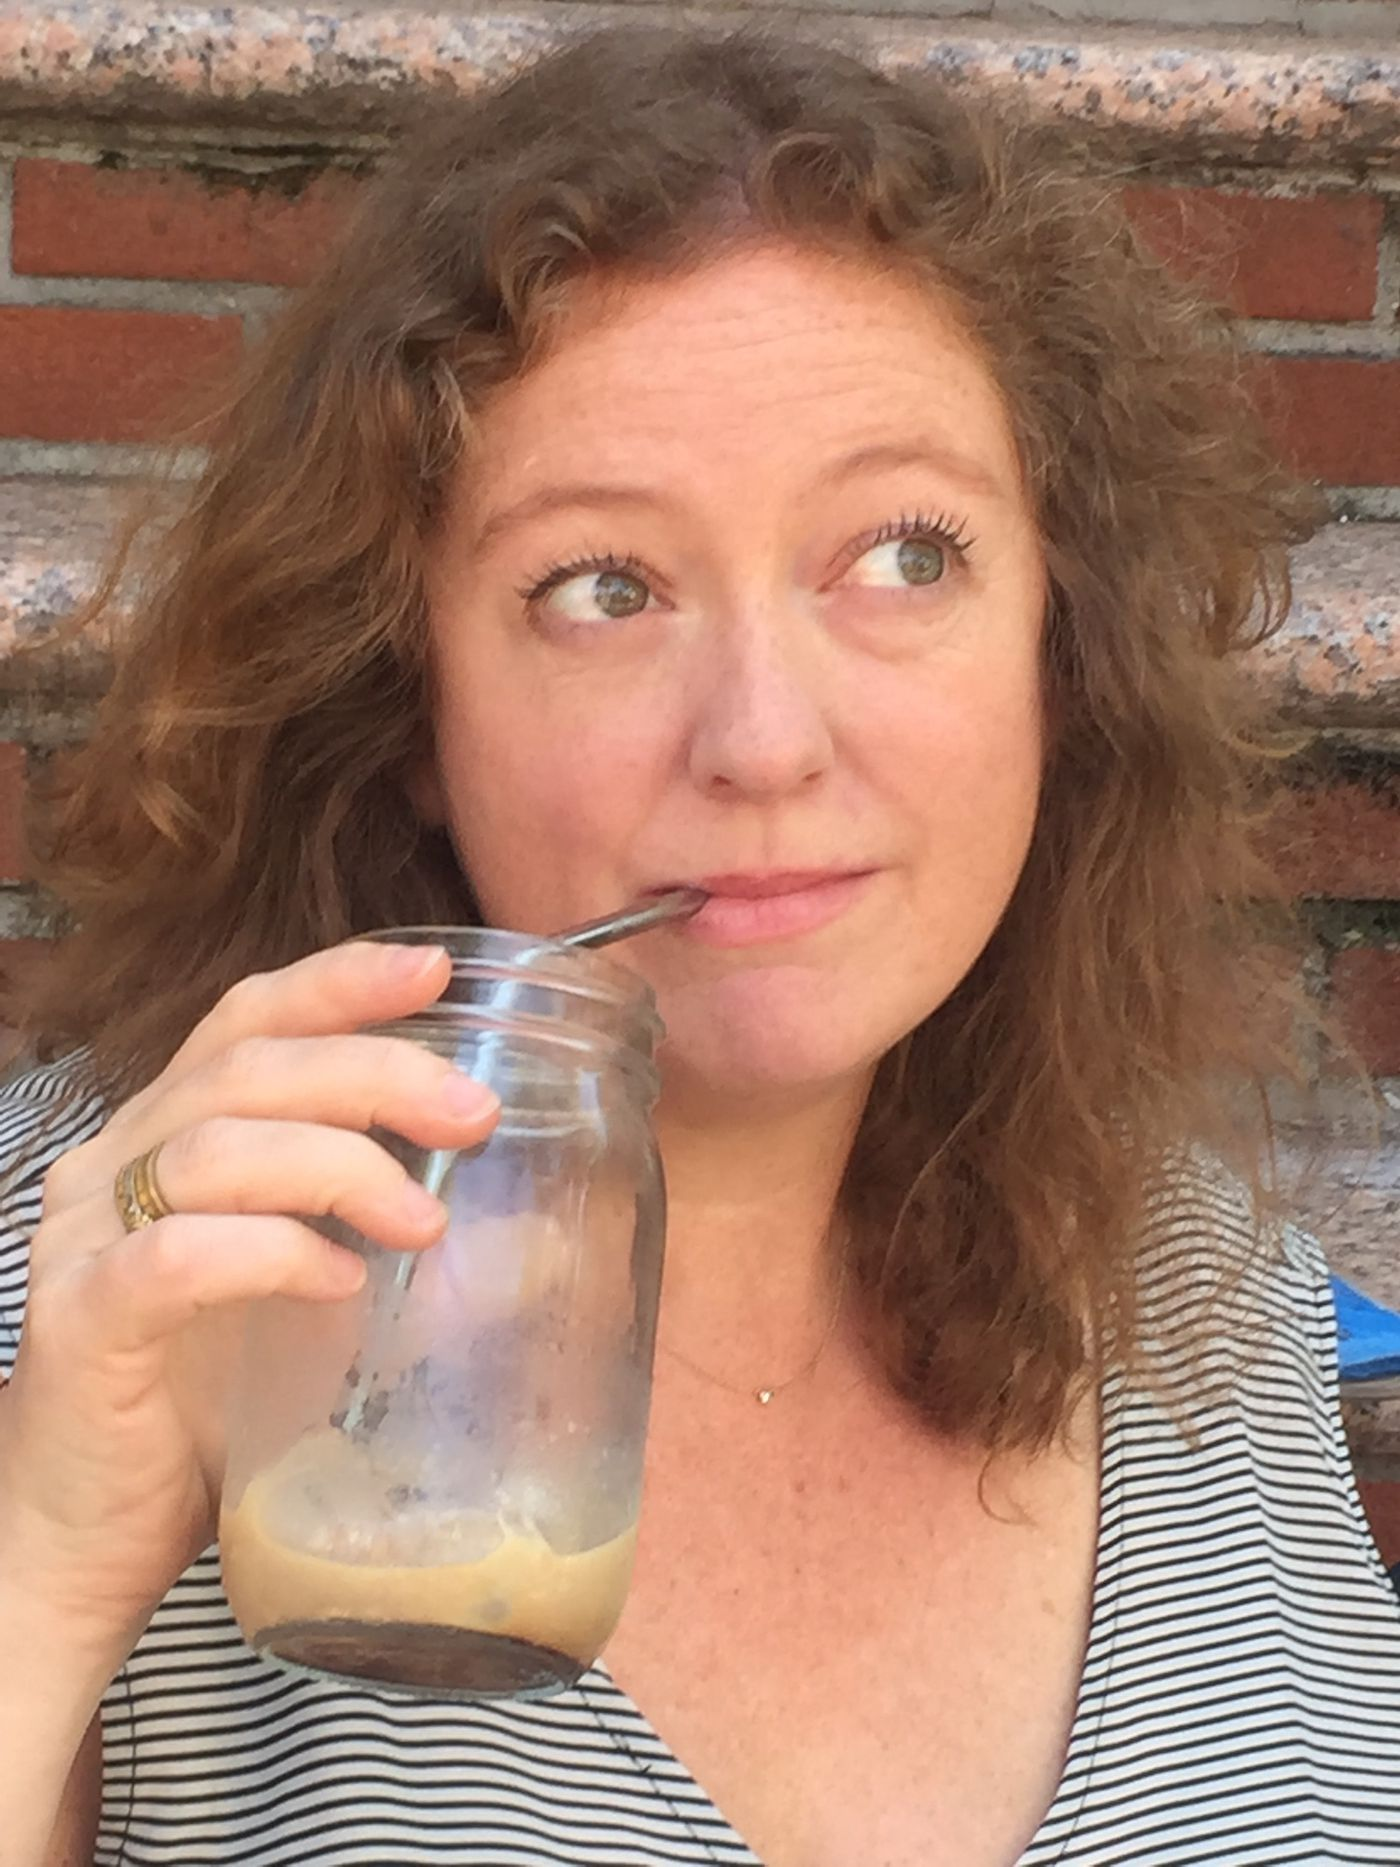drinking: (51, 26, 1265, 1770)
